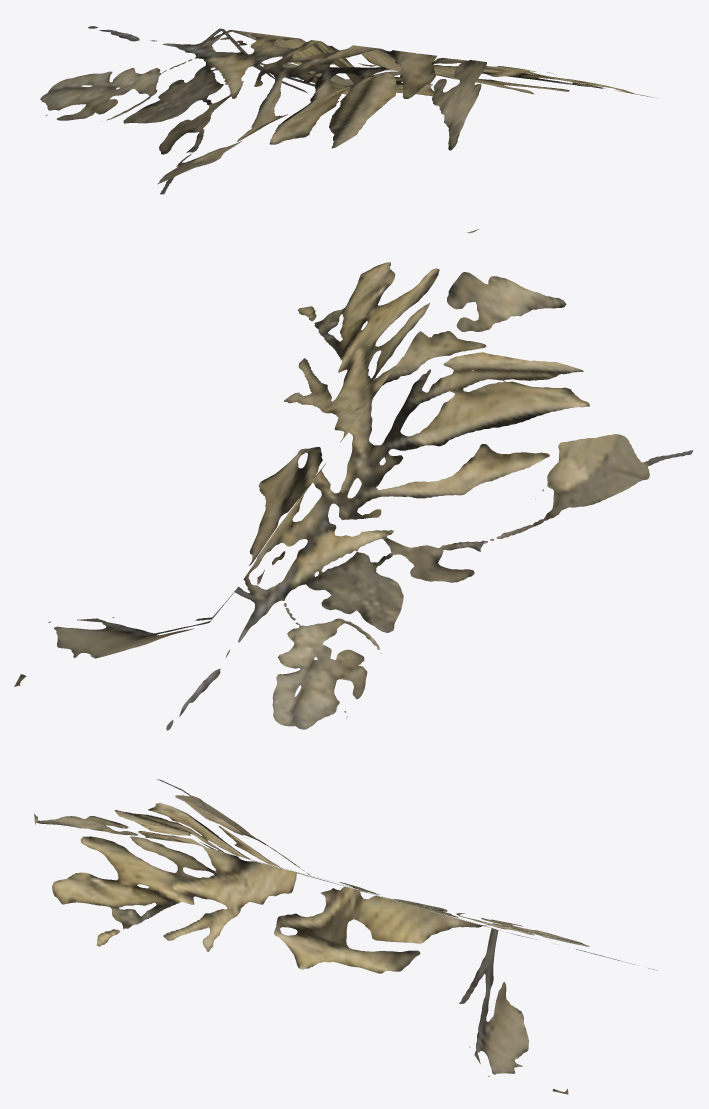
File: SM_Leaves_Ground_04.fbx
The picture shows the model from 3 angles, top to bottom: view 1: azimuth 30°, elevation 25°; view 2: azimuth 150°, elevation 25°; view 3: azimuth 270°, elevation 25°; orthographic projection. The views are drawn at different scales.
Parts seen in each view (by area): view 1: SM_Leaves_Ground_04; view 2: SM_Leaves_Ground_04; view 3: SM_Leaves_Ground_04.
Part boxes in pixels (<box>): SM_Leaves_Ground_04: <box>40,26,656,194</box>; SM_Leaves_Ground_04: <box>14,229,693,730</box>; SM_Leaves_Ground_04: <box>34,779,657,1094</box>.
Bounding box in the file's own units: 45.59 × 70.28 × 25.98.
1 material, 1 textured.
